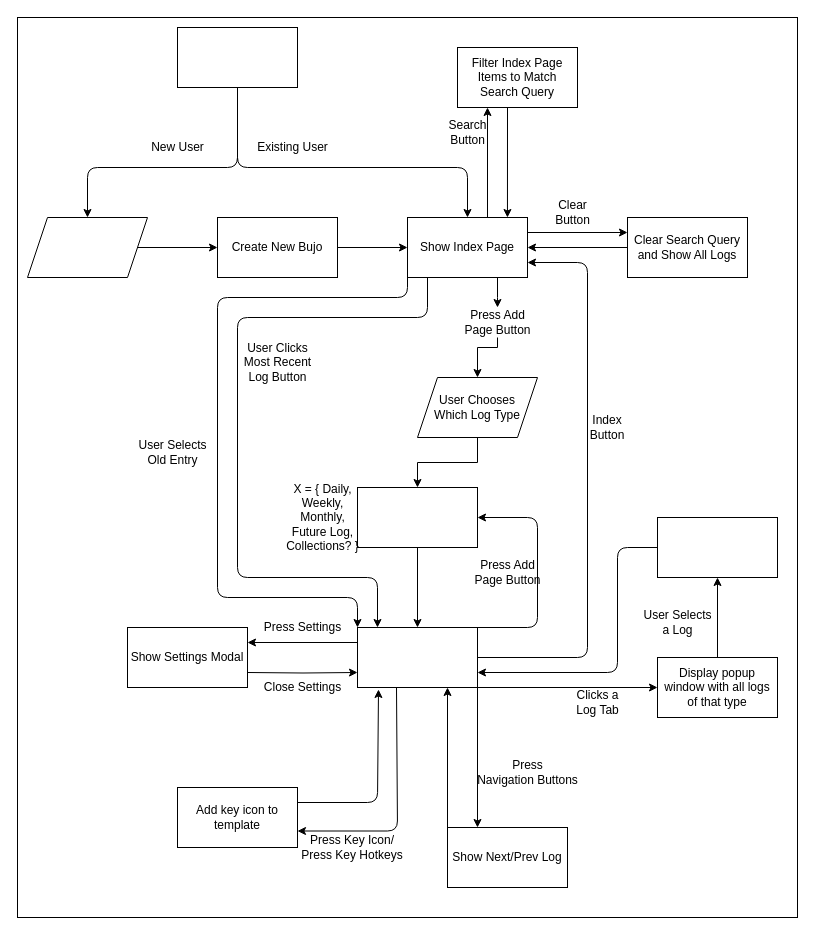
This 815x935 diagram has some shape labels left out. The centre of each missing label's shape, as x and y in pixels:
"Add X entry" belongs at pixel 417 517.
"Display Entry + User Makes Edits" belongs at pixel 417 657.
"Start" belongs at pixel 237 57.
"Toggle display on log tabs appropiately + delete pop up window" belongs at pixel 717 547.
"User Inputs personaliztion info" belongs at pixel 87 247.
